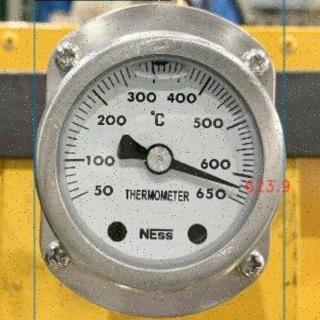gauge: (35, 5, 285, 319), (65, 180, 98, 210), (144, 142, 174, 174), (219, 182, 249, 214), (232, 182, 242, 194)
